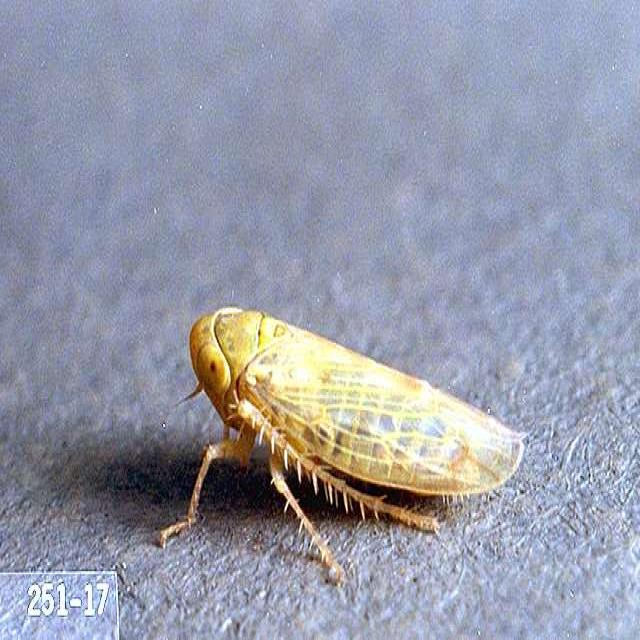Yechan: (157, 296, 546, 558)
